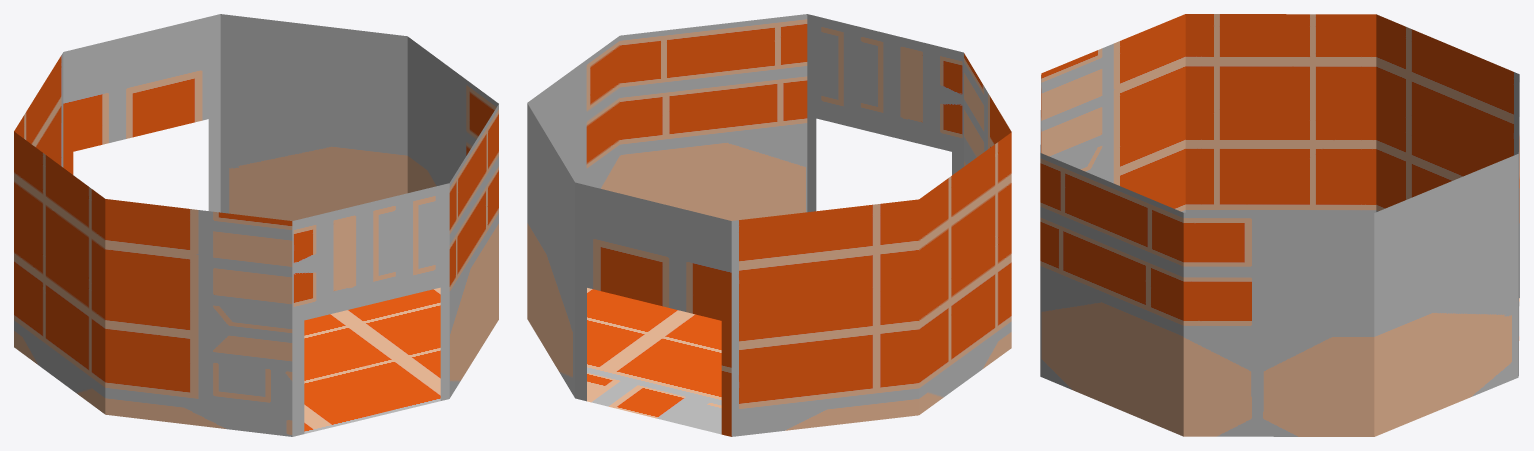
Rendered from boş_kat_camlı.fbx.
3 renders of one model, left to right at view 1: azimuth 30°, elevation 25°; view 2: azimuth 150°, elevation 25°; view 3: azimuth 270°, elevation 25°, orthographic. The views are drawn at different scales.
Parts seen in each view (by area): view 1: Cube.002; view 2: Cube.002; view 3: Cube.002.
Boxes of the visible parts, left/top/right/bottom form: Cube.002: left=14, top=14, right=498, bottom=436; Cube.002: left=527, top=14, right=1011, bottom=436; Cube.002: left=1040, top=14, right=1519, bottom=436.
Size of the model in its own units: 199 by 104 by 202.
